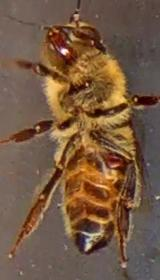varroa_mite: (94, 141, 132, 180)
